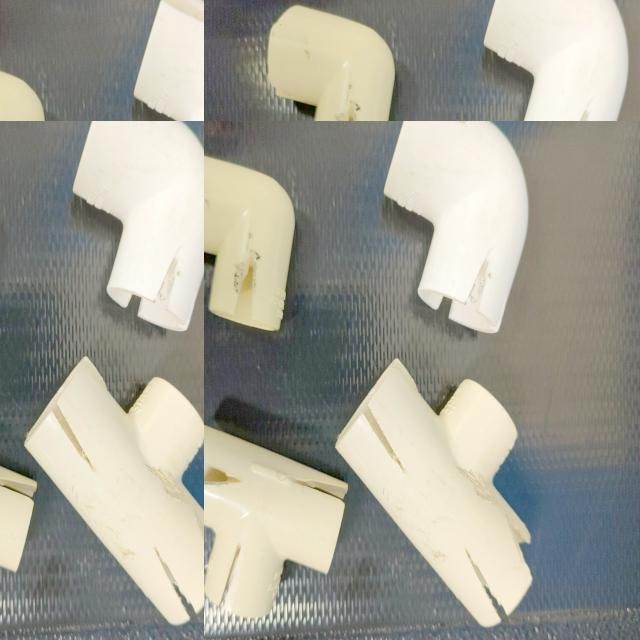Defective: (464, 550, 514, 634), (357, 407, 405, 477), (465, 548, 507, 622), (230, 255, 260, 327), (364, 408, 401, 465), (504, 512, 534, 582), (294, 474, 352, 510), (219, 542, 244, 617), (461, 464, 497, 512), (462, 252, 491, 307), (464, 254, 491, 312), (223, 544, 244, 616), (238, 250, 259, 320), (289, 483, 346, 507), (409, 121, 499, 135), (204, 454, 236, 493), (510, 516, 530, 560), (204, 465, 237, 491), (228, 28, 244, 61), (434, 297, 456, 321), (439, 298, 454, 318)
L Joint: (383, 121, 530, 336), (204, 155, 298, 337)
T Joint: (334, 360, 533, 630), (204, 425, 348, 618)
